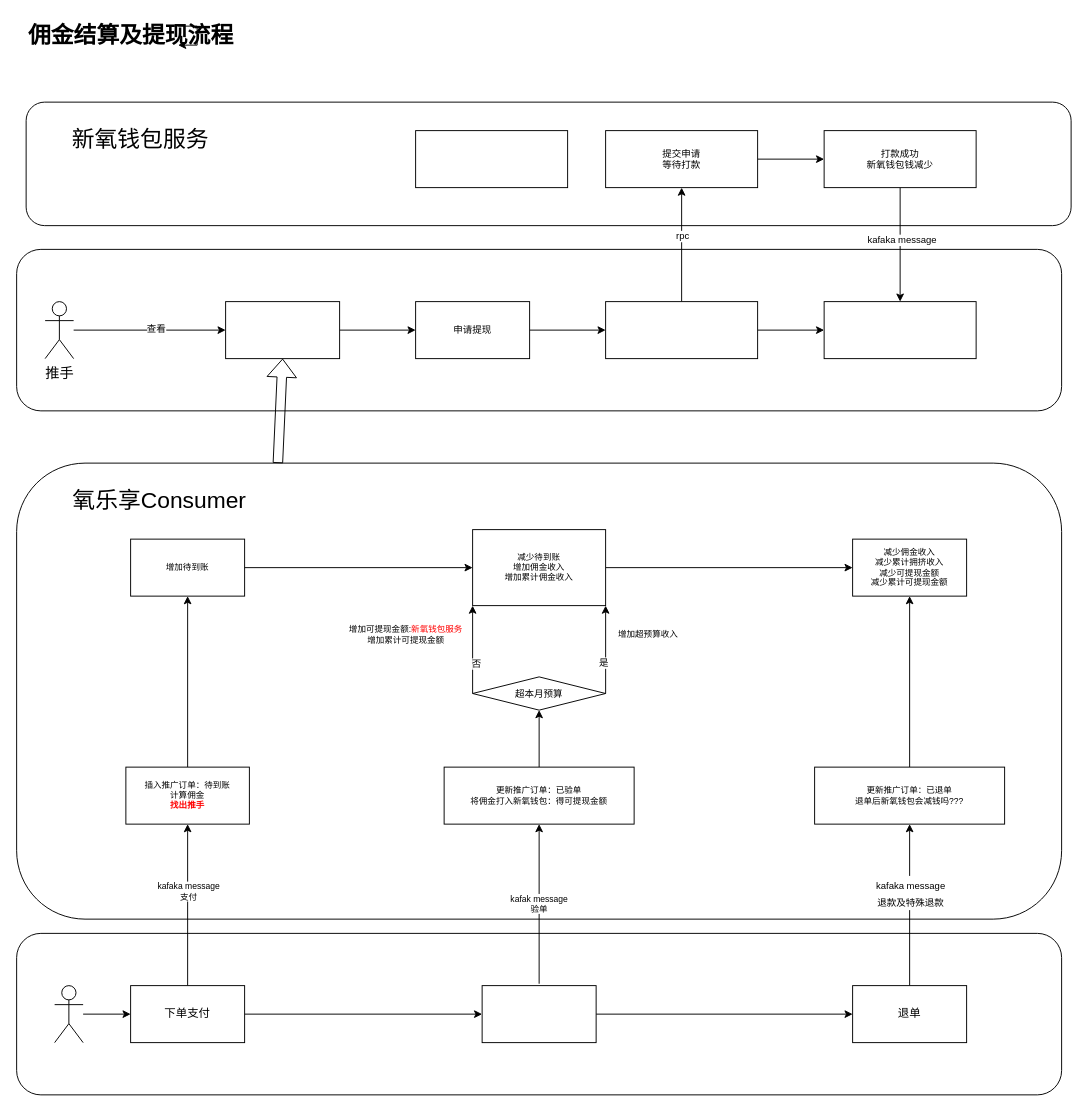
Image size: 1088x1112. Some labels were removed from this diagram. Each missing label, with the centre of its shape:
下单用户: point 68,1014
佣金变现->打入新氧钱包 ->计算可提现金额和税: point 491,159
减少可提现金额 增加冻结金额 提交新氧钱包提现申请 插入提现记录：提现中: point 681,330
可提现金额: point 282,330
提现成功 减少冻结金额 更新提现记录：已完成: point 899,330
验单: point 538,1014
